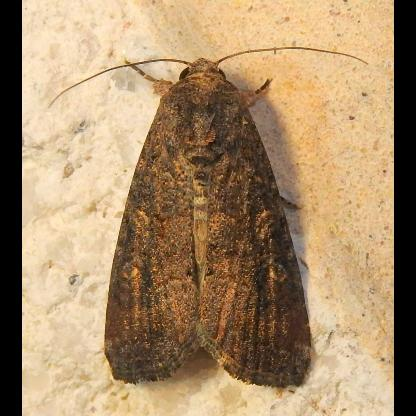Fall Armyworm Moth: (46, 43, 372, 392)
